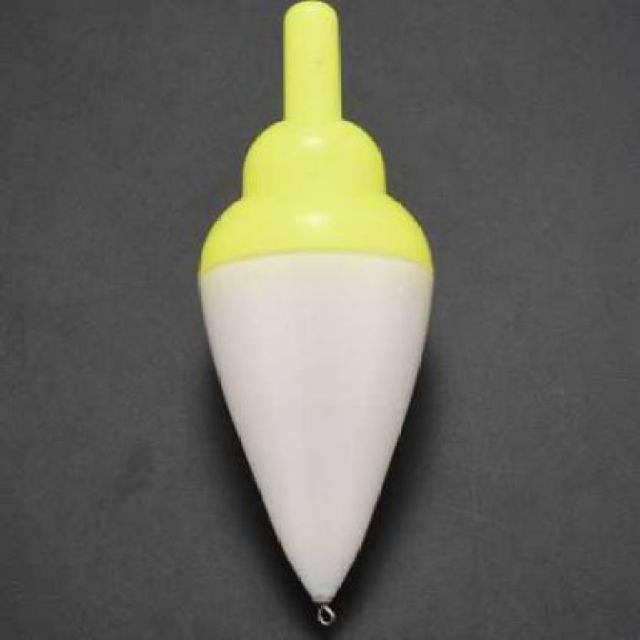a: (167, 1, 461, 635), (205, 3, 425, 200), (171, 192, 460, 285), (247, 7, 373, 124)
